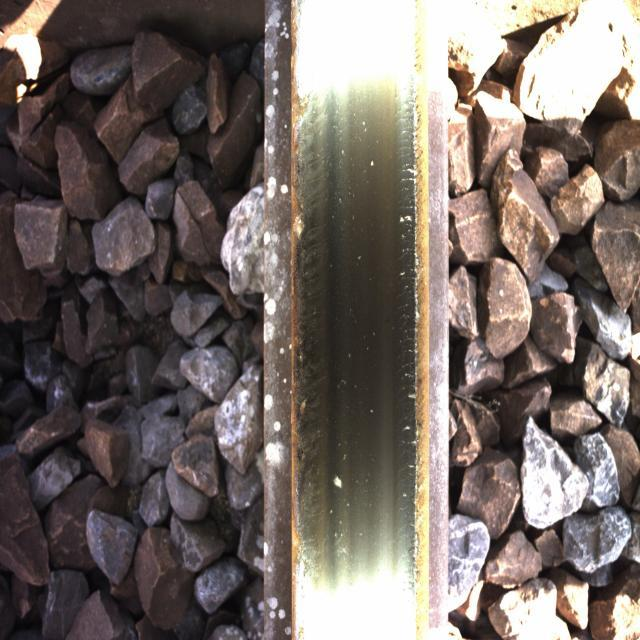scar: (290, 42, 352, 552)
